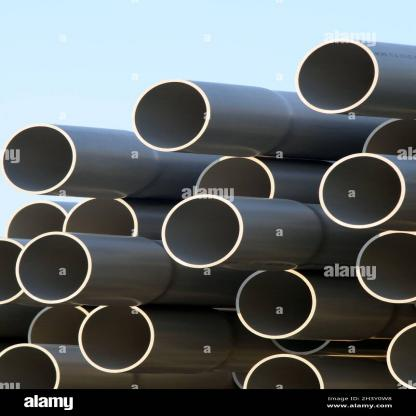PVC: (0, 39, 414, 389)
